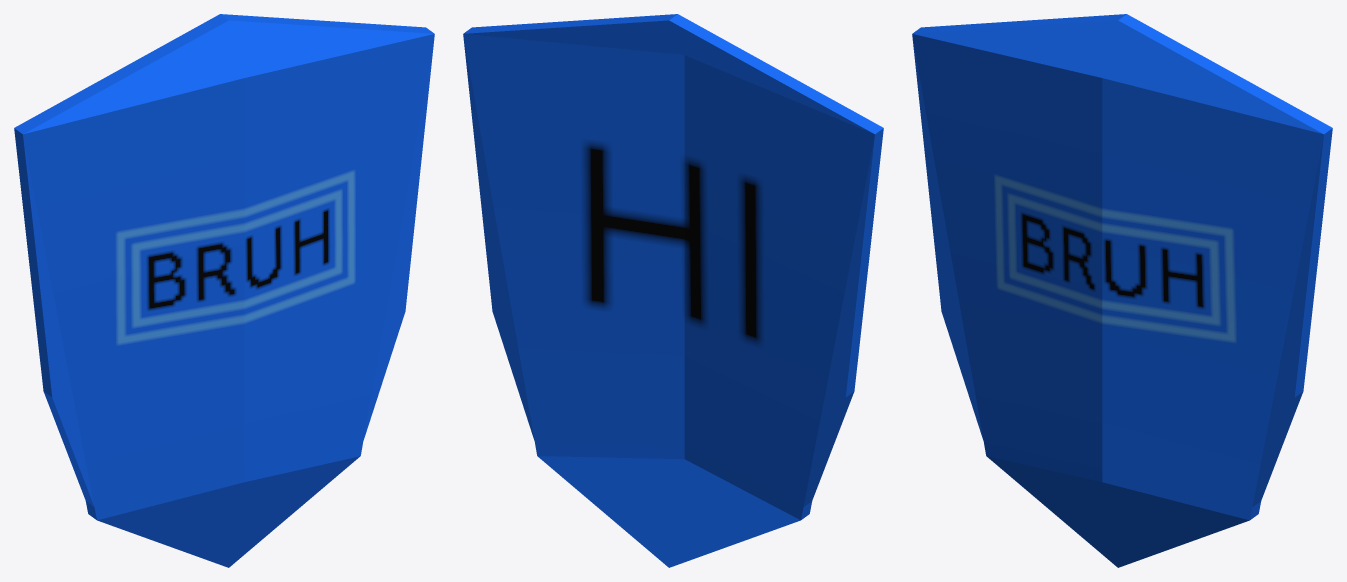
The model's file is accessory.fbx.
3 renders of one model, left to right at view 1: azimuth 30°, elevation 25°; view 2: azimuth 150°, elevation 25°; view 3: azimuth 330°, elevation 25°, orthographic.
Parts seen in each view (by area): view 1: Plane.001; view 2: Plane.001; view 3: Plane.001.
Boxes of the visible parts, x1,y1,x2,y2 form: Plane.001: (14, 14, 434, 567); Plane.001: (463, 14, 883, 567); Plane.001: (912, 14, 1332, 567).
Bounding box in the file's own units: 200 × 254 × 20.58.
Materials: 1 (1 with a texture image).
